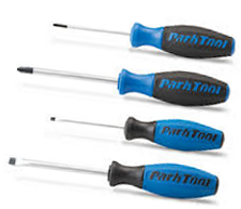screwdriver: (7, 150, 232, 202)
